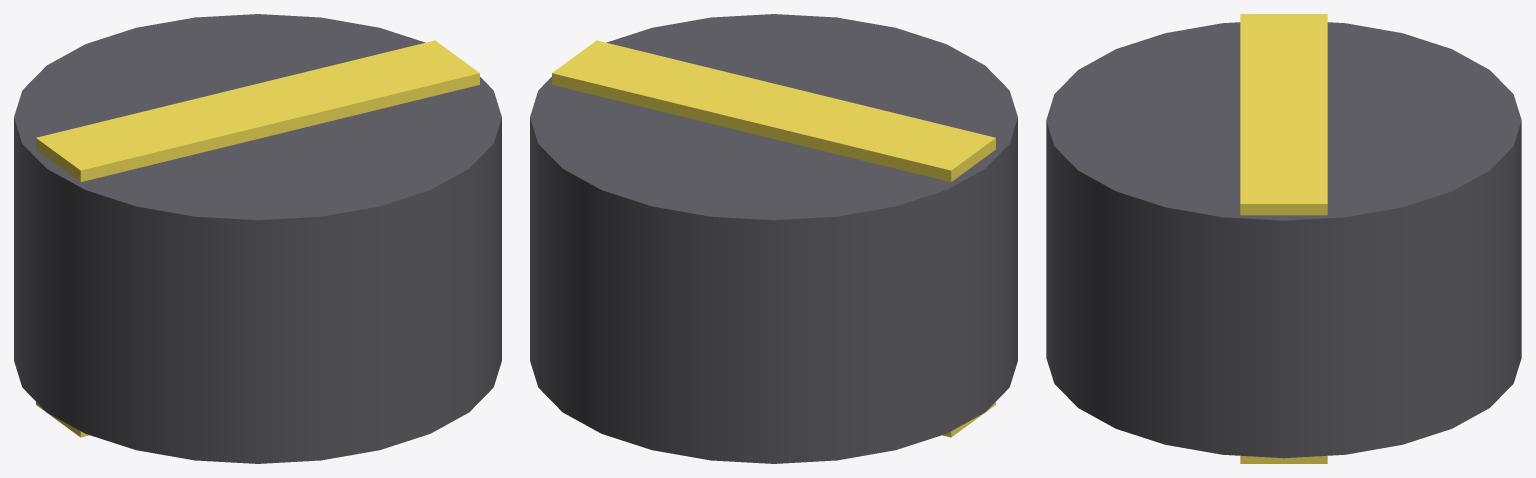
File: swerve_wheel.glb
3 renders of one model, left to right at view 1: azimuth 30°, elevation 25°; view 2: azimuth 150°, elevation 25°; view 3: azimuth 270°, elevation 25°, orthographic. The views are drawn at different scales.
Visible parts, largest first — view 1: NOSIMPLIFY_swerve_wheel; view 2: NOSIMPLIFY_swerve_wheel; view 3: NOSIMPLIFY_swerve_wheel.
Boxes of the visible parts, x1,y1,x2,y2 form: NOSIMPLIFY_swerve_wheel: (14, 14, 501, 463); NOSIMPLIFY_swerve_wheel: (530, 14, 1017, 463); NOSIMPLIFY_swerve_wheel: (1046, 14, 1521, 463).
Bounding box in the file's own units: 0.0762 × 0.046 × 0.0762.
